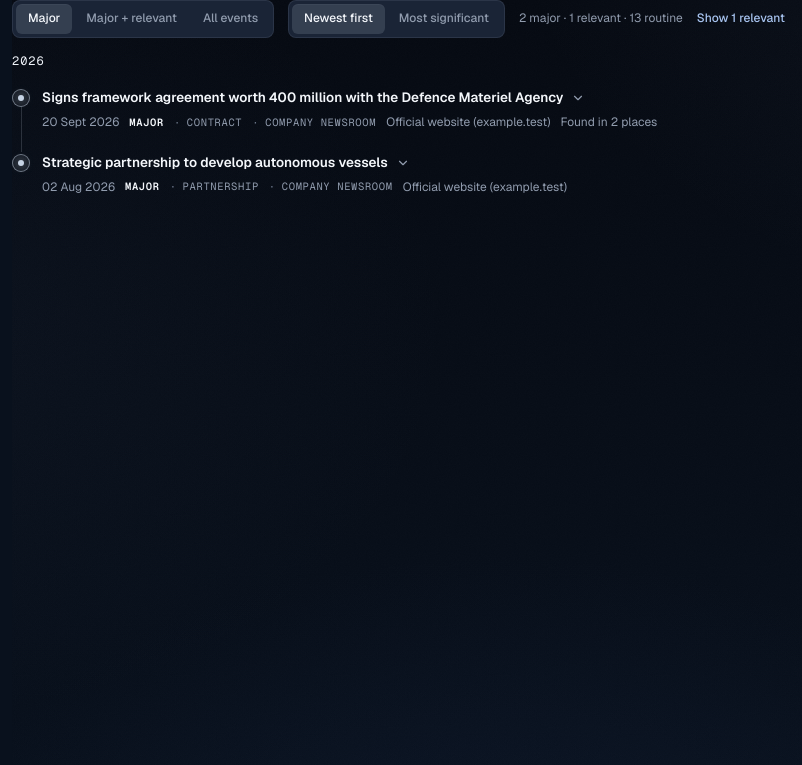
Test: Recent activity timeline › can be sorted by significance across years
The image size is (802, 765).
Click the button "All events": x=230, y=19 [191, 4, 270, 34]
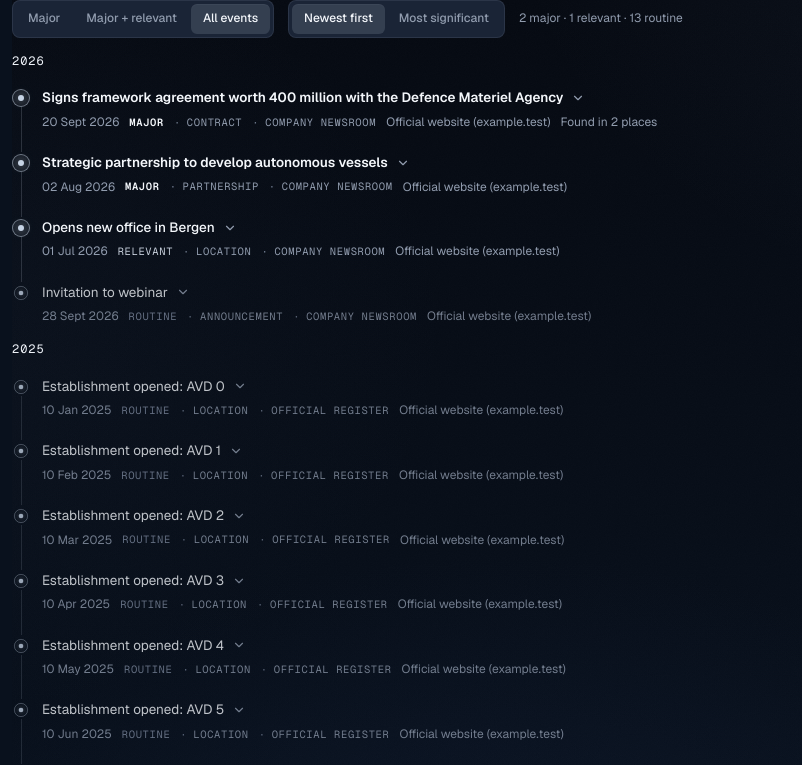
Click the button "Most significant": x=444, y=19 [387, 4, 501, 34]
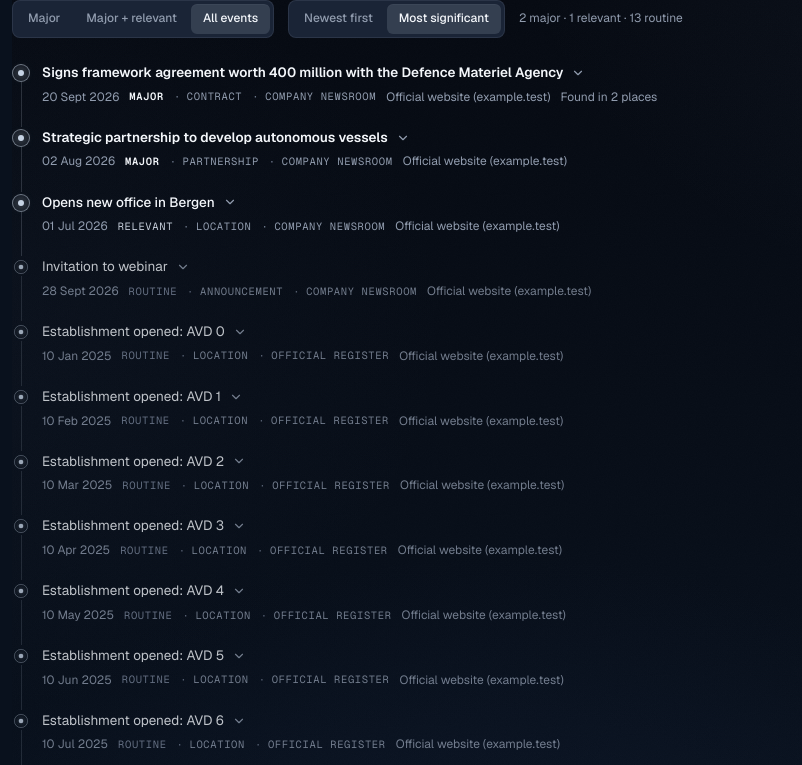
Check: the text with class "tl-title" shows "framework agreement", box [42, 63, 563, 81]
Check: the text with class "tl-title" shows "Opens new office", box [42, 193, 215, 211]
Check: the text with class "tl-year" is gone
